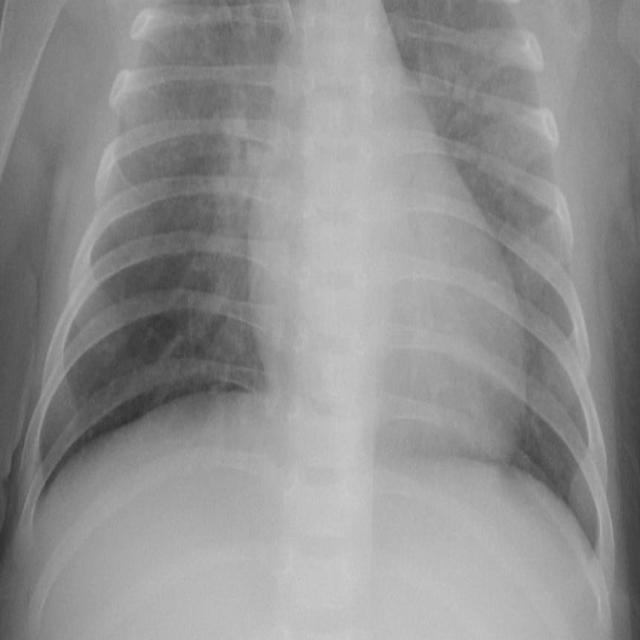low-pneumonia: (200, 58, 275, 311), (416, 32, 520, 193)
